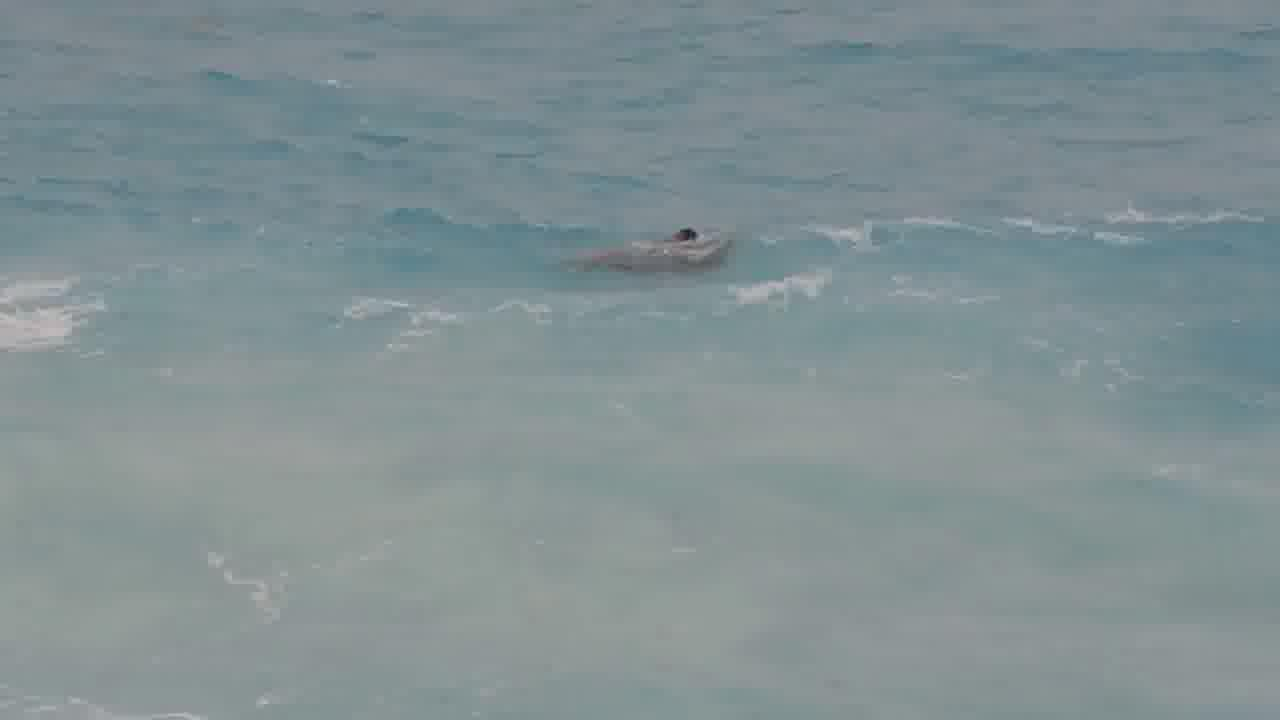swimmer: (662, 218, 706, 243)
